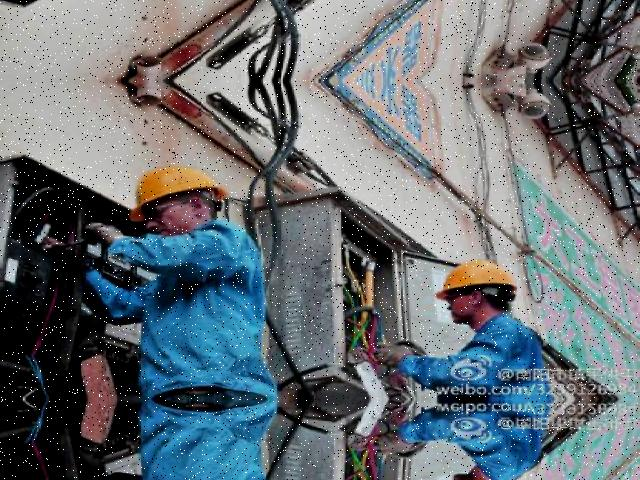Helmet: (124, 160, 228, 228), (432, 255, 520, 306)
